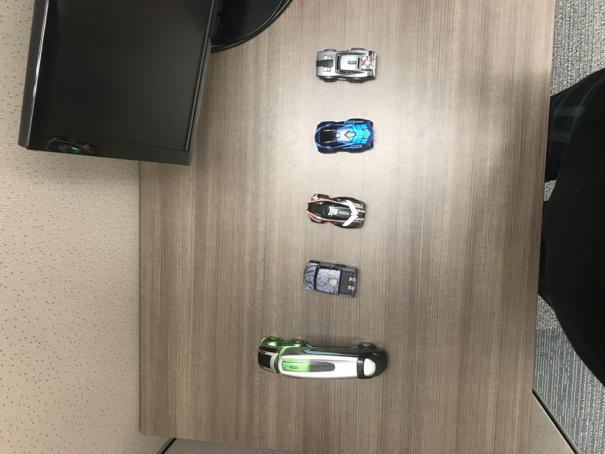Charger: (315, 47, 379, 84)
Freewheel: (257, 335, 389, 380)
MXT: (301, 260, 360, 298)
Shock: (315, 119, 374, 153)
Skull: (306, 193, 367, 229)
